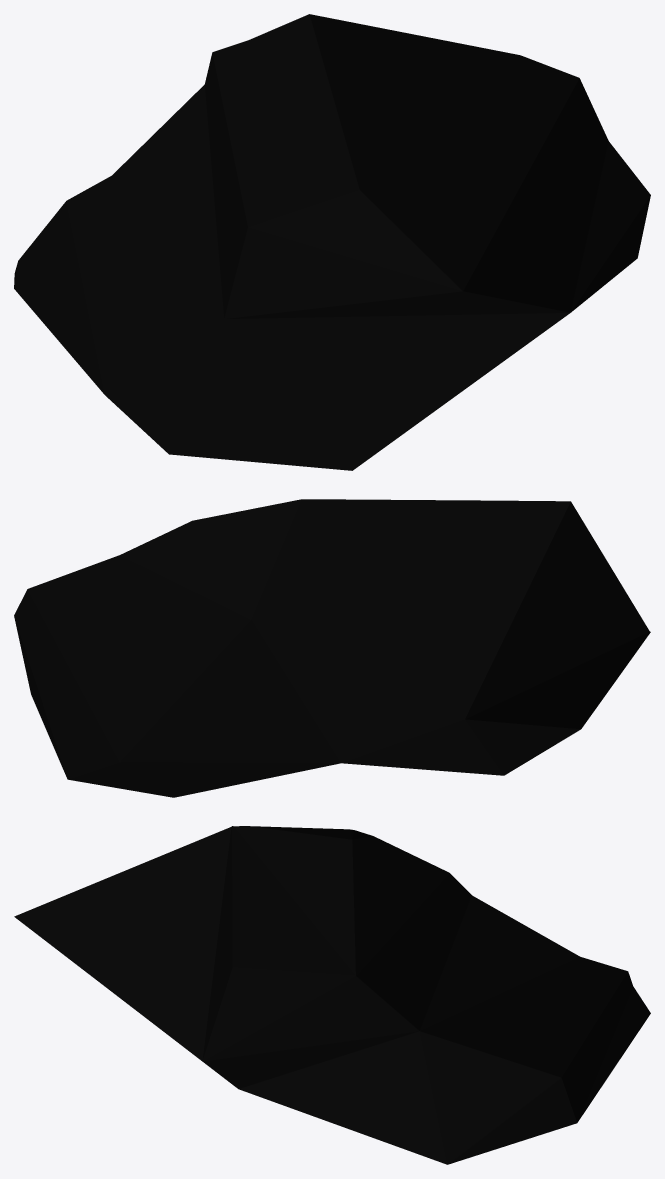
3 renders of one model, top to bottom at view 1: azimuth 30°, elevation 25°; view 2: azimuth 150°, elevation 25°; view 3: azimuth 270°, elevation 25°, orthographic. The views are drawn at different scales.
Size of the model in its own units: 0.2035 by 0.057 by 0.2293.
Materials: 1 (1 with a texture image).
